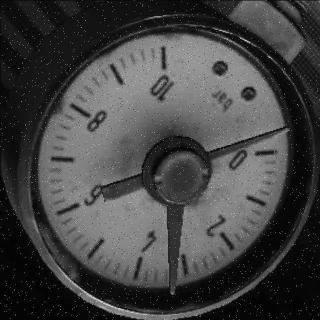gauge: (10, 15, 319, 319), (152, 146, 208, 205), (259, 111, 294, 147), (150, 47, 180, 83), (276, 122, 294, 139), (165, 282, 181, 300)
